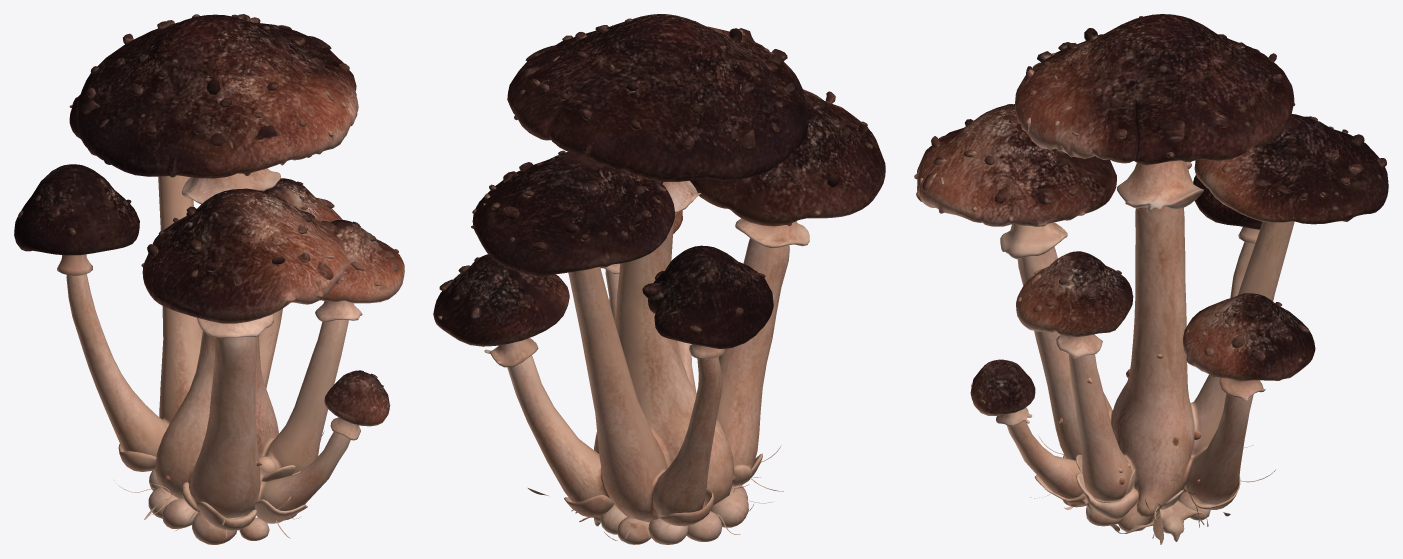
Rendered from mushrooms.glb.
3 views of the same model, side by side, from view 1: azimuth 30°, elevation 25°; view 2: azimuth 150°, elevation 25°; view 3: azimuth 270°, elevation 25° (orthographic). The views are drawn at different scales.
Parts seen in each view (by area): view 1: tripo_node_a758a5f6-f165-4e24-a8f8-8c8e54ee8bf9; view 2: tripo_node_a758a5f6-f165-4e24-a8f8-8c8e54ee8bf9; view 3: tripo_node_a758a5f6-f165-4e24-a8f8-8c8e54ee8bf9.
Boxes of the visible parts, box(x1,y1,x2,y2) form: tripo_node_a758a5f6-f165-4e24-a8f8-8c8e54ee8bf9: box(14, 14, 404, 544); tripo_node_a758a5f6-f165-4e24-a8f8-8c8e54ee8bf9: box(433, 14, 885, 544); tripo_node_a758a5f6-f165-4e24-a8f8-8c8e54ee8bf9: box(914, 14, 1388, 544).
Size of the model in its own units: 0.6665 by 0.9995 by 0.8735.
Materials: 1 (1 with a texture image).
